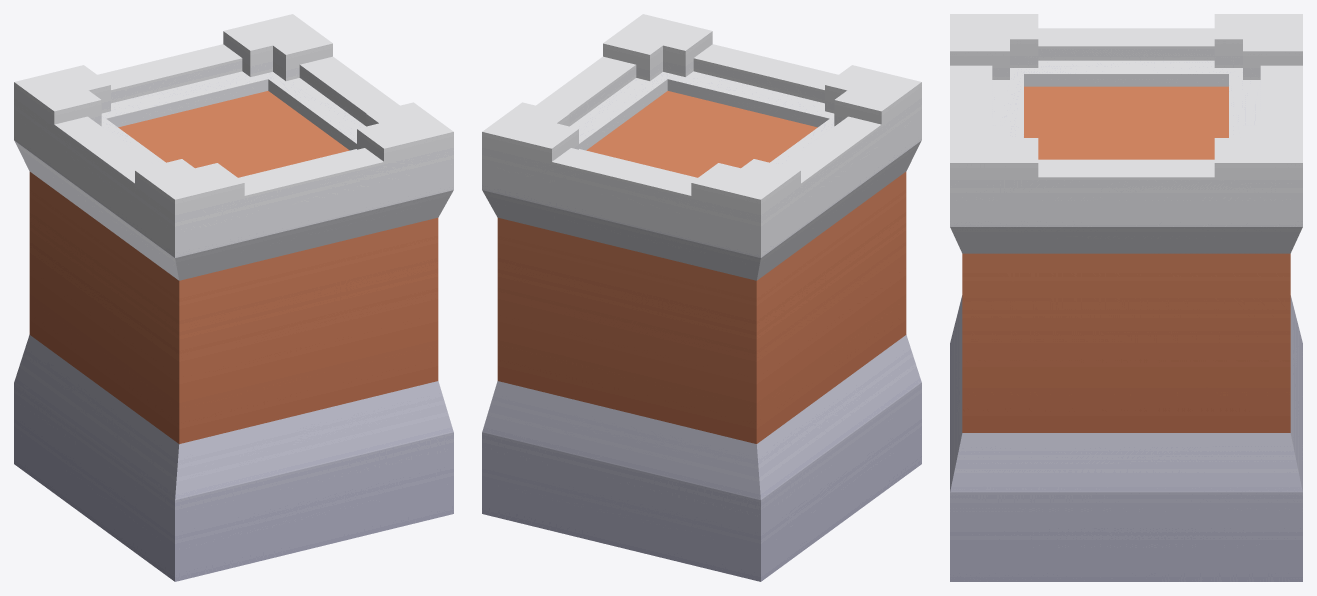
The model's file is tower.glb.
The picture shows the model from 3 angles, left to right: view 1: azimuth 30°, elevation 25°; view 2: azimuth 150°, elevation 25°; view 3: azimuth 270°, elevation 25°; orthographic projection. The views are drawn at different scales.
Visible parts, largest first — view 1: tower-square; view 2: tower-square; view 3: tower-square.
Part boxes in pixels (<box>): tower-square: <box>14,14,453,581</box>; tower-square: <box>482,14,921,581</box>; tower-square: <box>950,14,1302,581</box>.
Size of the model in its own units: 1 by 1.31 by 1.
1 material, 1 textured.
